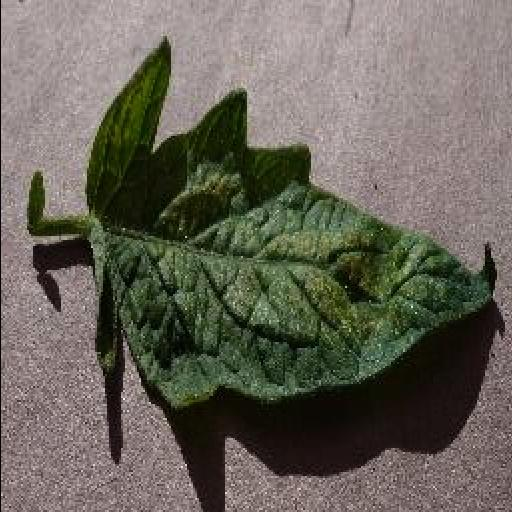disease_tomato: (83, 34, 497, 406)
